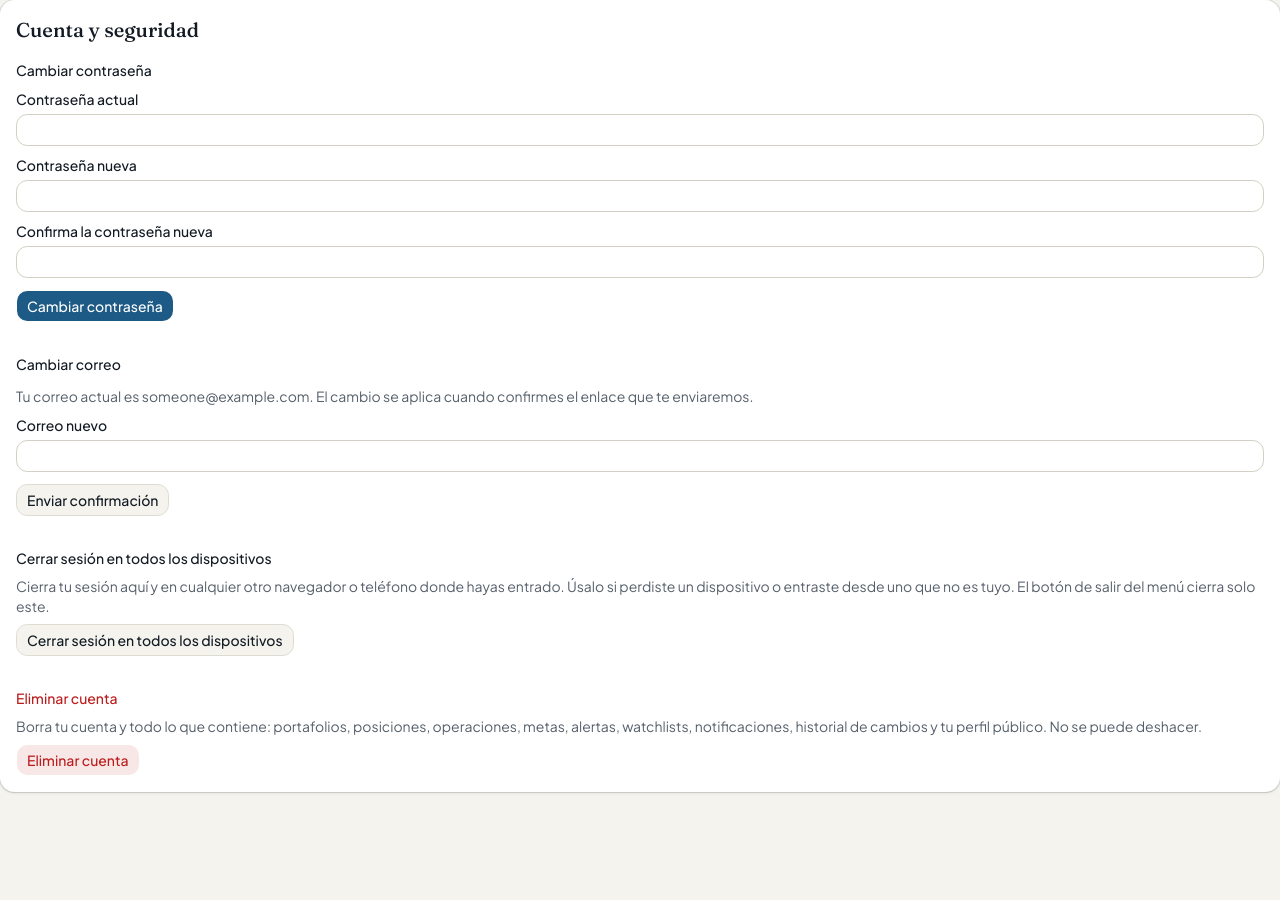
AccountSecurity — change email › does not send anything for the address the account already has
Type "SOMEONE@example.com" into the field labelled "Correo nuevo" at (640, 456), box [16, 440, 1264, 472]
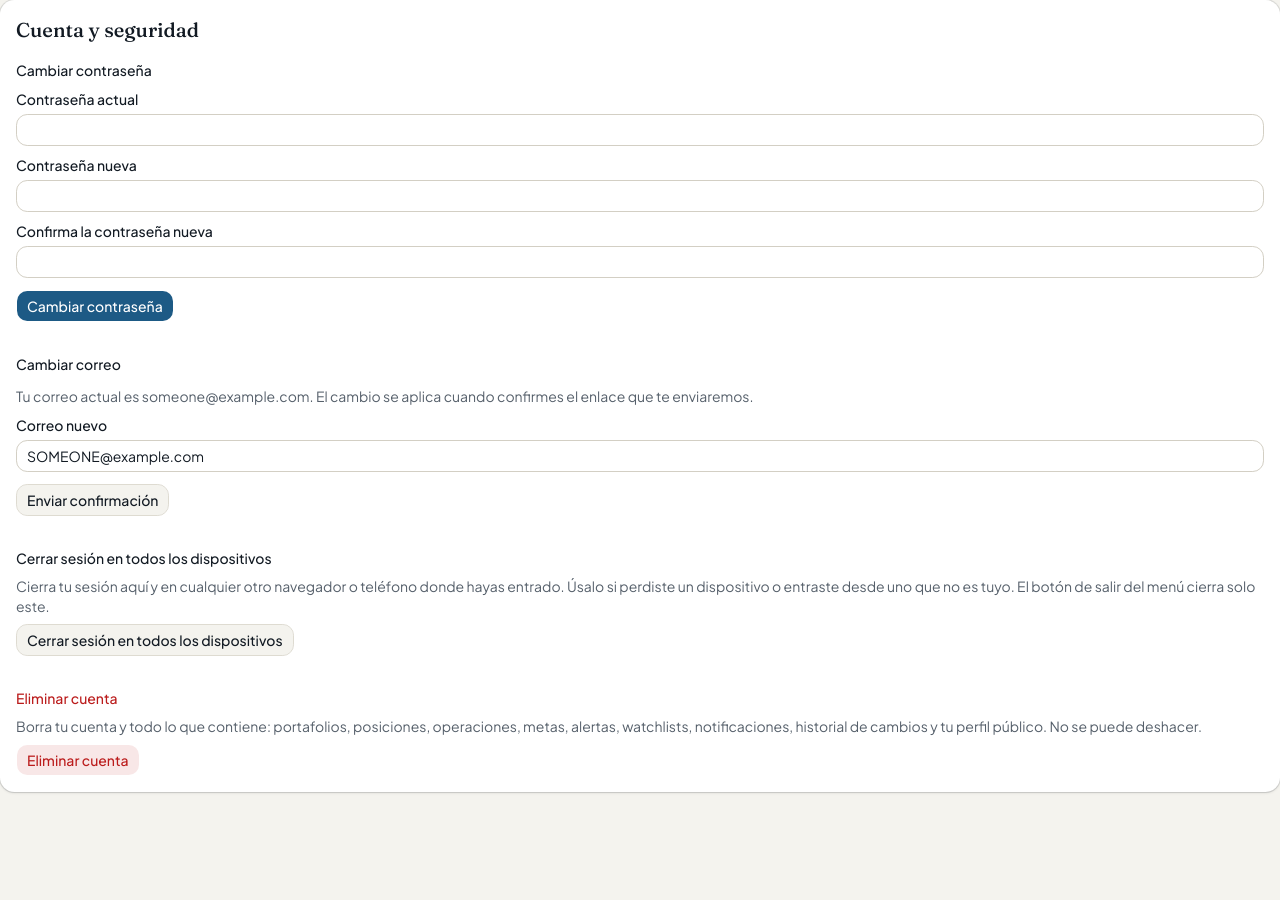
Click the button "Enviar confirmación" at (93, 500), box [16, 484, 170, 516]
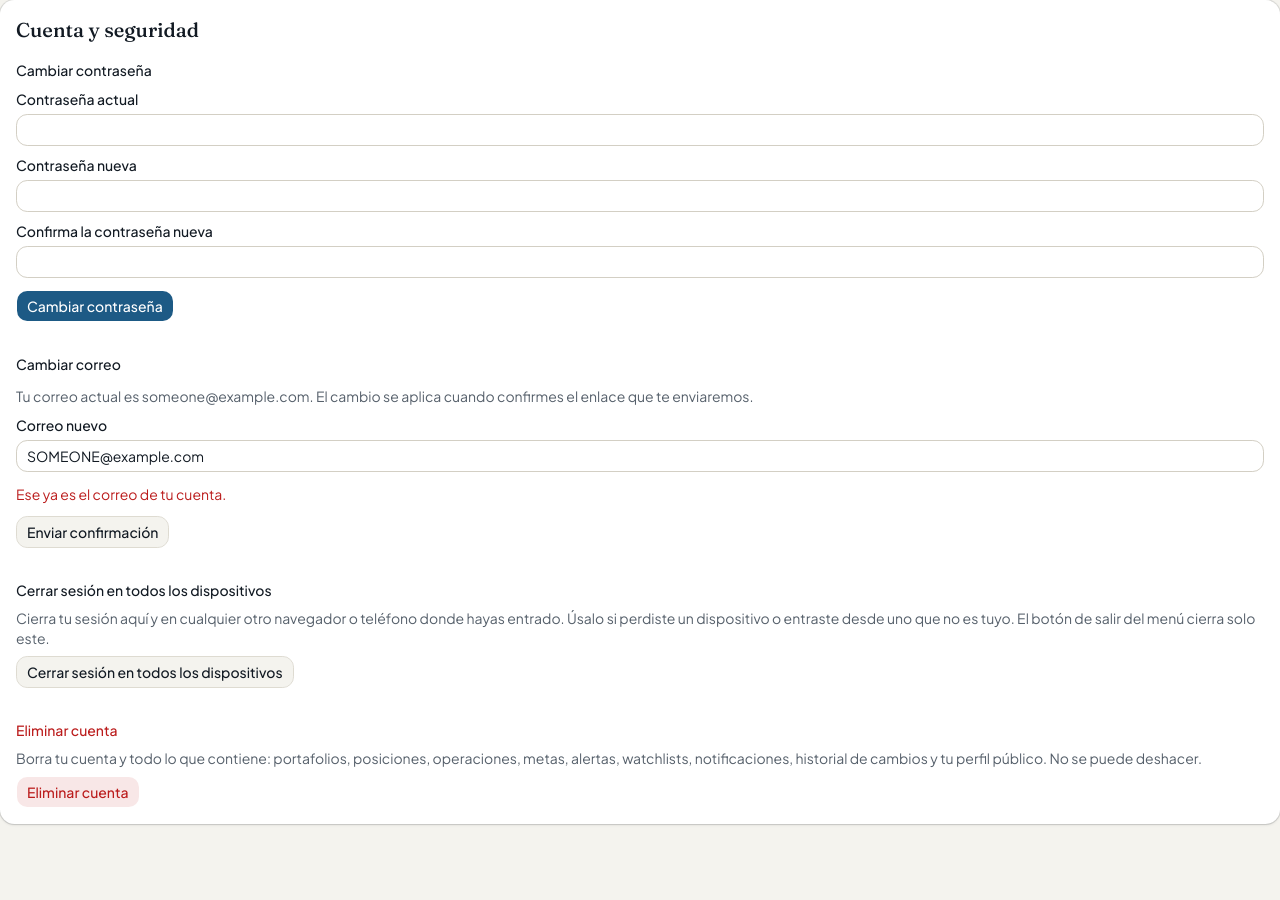
Now the text "Ese ya es el correo de tu cuenta." is shown, box [16, 485, 226, 503]
